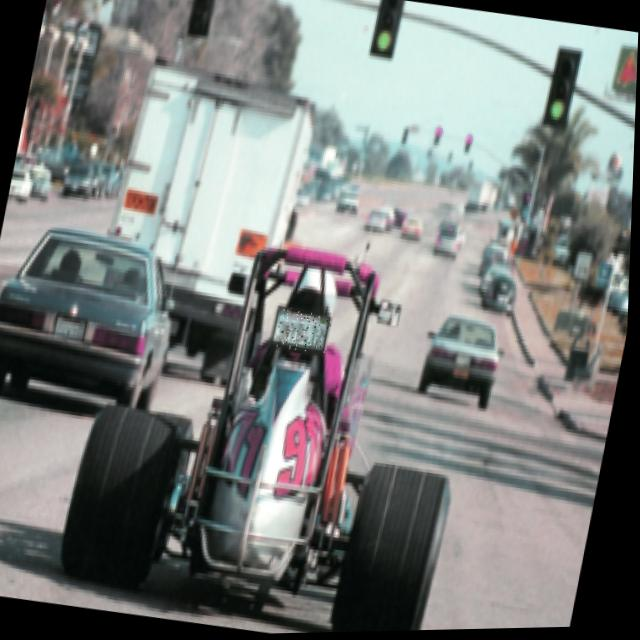license_plate: (277, 309, 335, 356)
